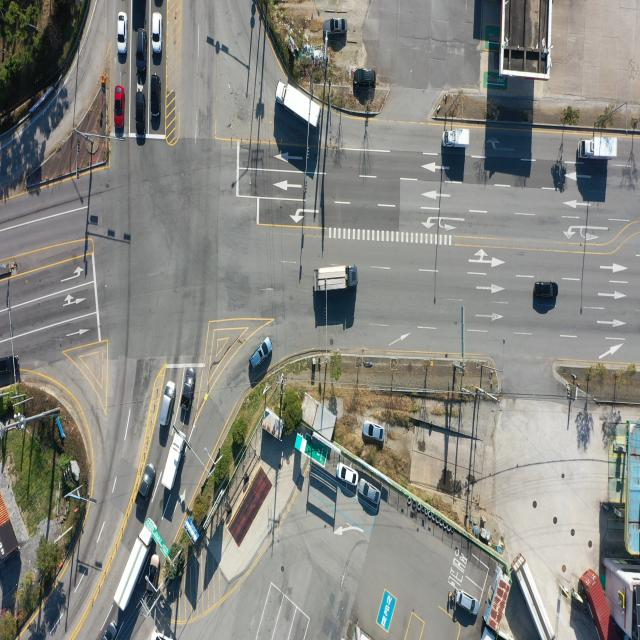car: (135, 462, 156, 510), (183, 370, 199, 426), (252, 338, 274, 372), (160, 381, 176, 427), (456, 587, 481, 614), (150, 74, 161, 127), (146, 554, 160, 594), (358, 480, 380, 505), (320, 18, 349, 36), (337, 462, 359, 485), (114, 86, 124, 134), (136, 92, 146, 136), (535, 282, 559, 300), (363, 422, 384, 442), (116, 12, 126, 54), (136, 30, 146, 72), (151, 12, 161, 52), (355, 68, 376, 86), (0, 355, 17, 375), (106, 618, 120, 640), (153, 0, 163, 8)
medium_truck: (518, 553, 558, 638), (116, 524, 154, 613), (275, 78, 322, 129), (160, 431, 184, 494), (316, 267, 356, 293), (579, 138, 615, 160)
small_truck: (443, 130, 470, 150)
